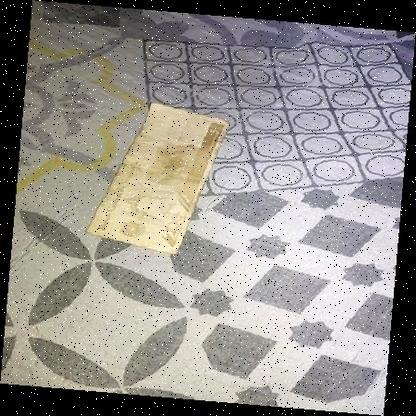five-back-vef: (84, 102, 229, 255)
